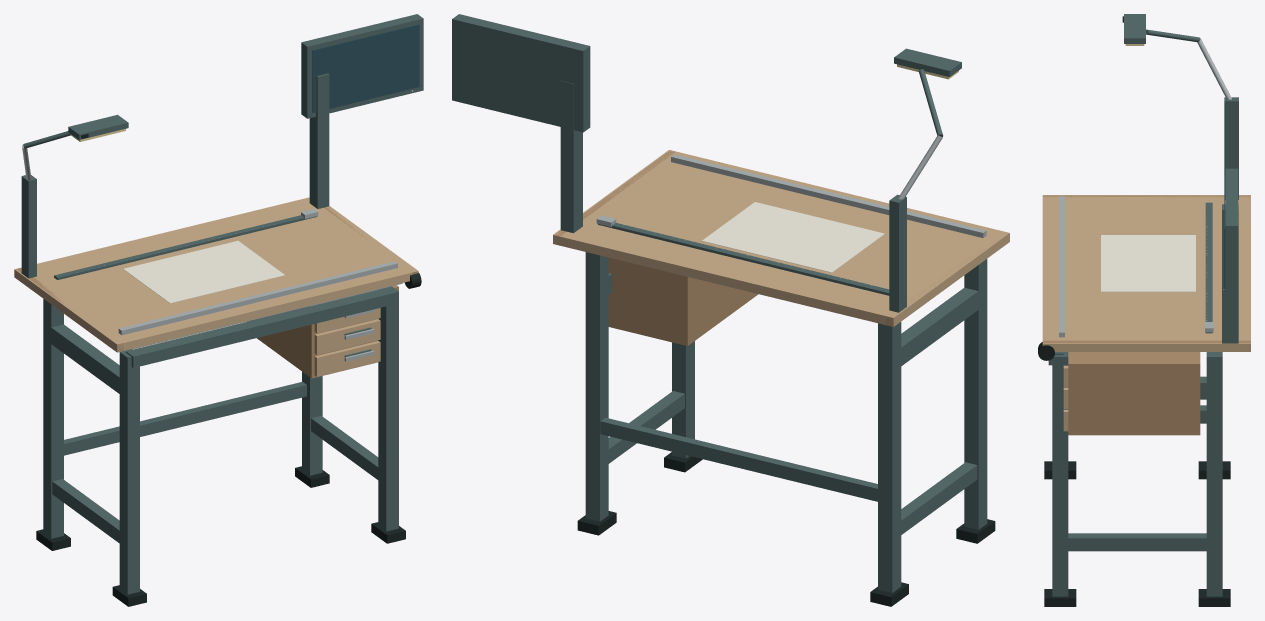
File: drafting-table.glb
The picture shows the model from 3 angles, left to right: view 1: azimuth 30°, elevation 25°; view 2: azimuth 150°, elevation 25°; view 3: azimuth 270°, elevation 25°; orthographic projection. The views are drawn at different scales.
Parts seen in each view (by area): view 1: Worktop_1100x650, Monitor_active, Paper_grid, Forward_support, Leg_-472_207, Leg_472_207, Leg_-472_-275, Rear_knee_stretcher, Monitor_shell, Inspection_mount, Paper_stop, Drawer_housing (+10 smaller); view 2: Worktop_1100x650, Monitor_shell, Drawer_housing, Paper_grid, Leg_-472_-275, Leg_472_-275, Leg_-472_207, Rear_knee_stretcher, Inspection_mount, Paper_stop, Side_stringer_-472, Lamp_mount (+5 smaller); view 3: Worktop_1100x650, Drawer_housing, Paper_grid, Leg_472_-275, Leg_472_207, Side_heel_472, Monitor_shell, Inspection_mount, Lamp_mount, Straightedge, Paper_stop, Worktop_rail_536 (+9 smaller).
Part boxes in pixels (bbox=[...]): Worktop_1100x650: bbox=[14, 197, 418, 352]; Monitor_active: bbox=[312, 24, 419, 112]; Paper_grid: bbox=[123, 241, 284, 303]; Forward_support: bbox=[126, 287, 396, 367]; Leg_-472_207: bbox=[119, 349, 139, 594]; Leg_472_207: bbox=[378, 286, 398, 531]; Leg_-472_-275: bbox=[43, 299, 63, 538]; Rear_knee_stretcher: bbox=[64, 381, 306, 455]; Monitor_shell: bbox=[301, 14, 423, 118]; Inspection_mount: bbox=[309, 73, 329, 208]; Paper_stop: bbox=[118, 261, 397, 335]; Drawer_housing: bbox=[249, 285, 398, 378]; Worktop_1100x650: bbox=[553, 150, 1009, 326]; Monitor_shell: bbox=[452, 14, 590, 132]; Drawer_housing: bbox=[608, 257, 758, 345]; Paper_grid: bbox=[702, 202, 884, 272]; Leg_-472_-275: bbox=[878, 322, 901, 592]; Leg_472_-275: bbox=[585, 252, 608, 521]; Leg_-472_207: bbox=[964, 259, 987, 529]; Rear_knee_stretcher: bbox=[600, 417, 877, 501]; Inspection_mount: bbox=[560, 80, 582, 233]; Paper_stop: bbox=[671, 154, 986, 237]; Side_stringer_-472: bbox=[896, 286, 985, 369]; Lamp_mount: bbox=[889, 194, 906, 312]; Worktop_1100x650: bbox=[1042, 195, 1250, 351]; Drawer_housing: bbox=[1068, 352, 1200, 435]; Paper_grid: bbox=[1101, 235, 1195, 291]; Leg_472_-275: bbox=[1206, 352, 1222, 596]; Leg_472_207: bbox=[1052, 352, 1068, 596]; Side_heel_472: bbox=[1068, 533, 1206, 551]; Monitor_shell: bbox=[1225, 168, 1238, 298]; Inspection_mount: bbox=[1222, 204, 1238, 343]; Lamp_mount: bbox=[1224, 97, 1238, 199]; Straightedge: bbox=[1205, 202, 1212, 333]; Paper_stop: bbox=[1059, 196, 1064, 337]; Worktop_rail_536: bbox=[1042, 340, 1250, 343].
Size of the model in its own units: 1.51 by 1.55 by 0.6645.
